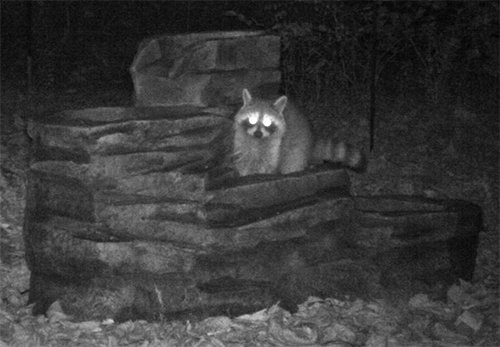raccoon: (209, 73, 385, 186)
